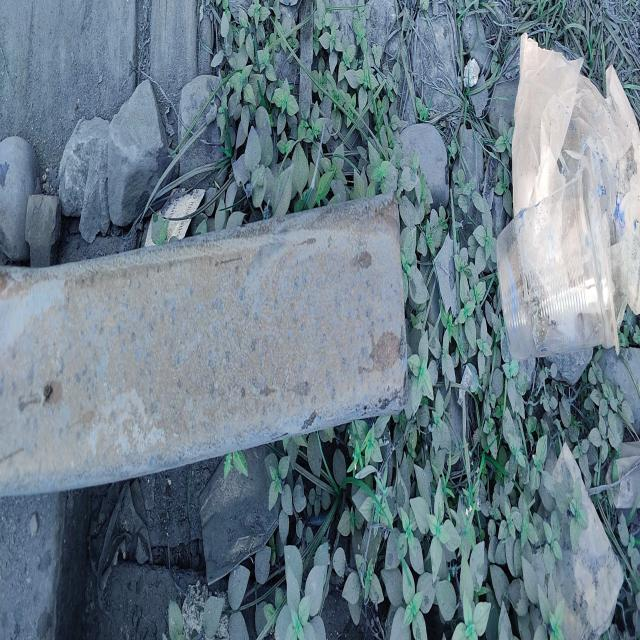Defective Joint: (29, 111, 612, 476)
